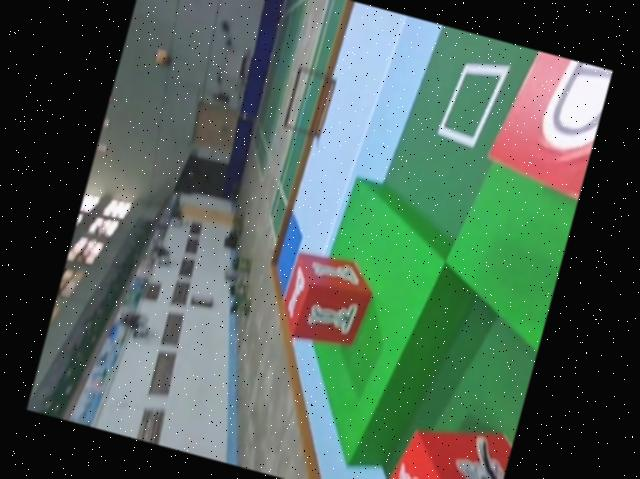R1: (375, 403, 515, 479)
R2 Fake: (482, 44, 613, 197)
R2 Real: (277, 245, 385, 352)
